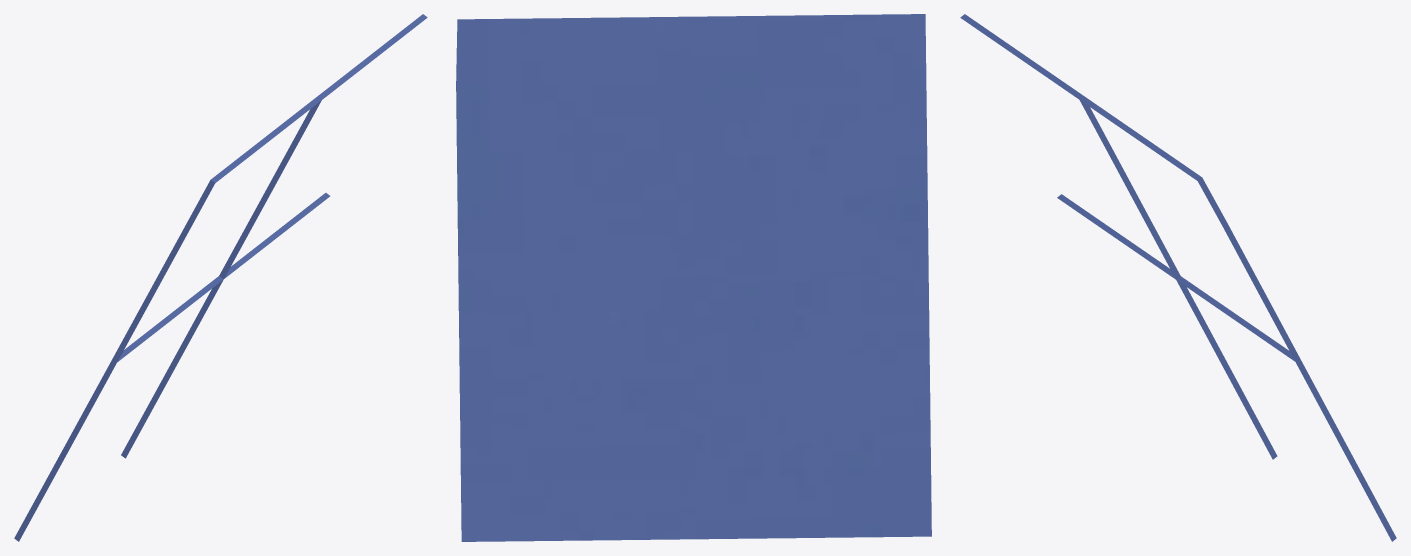
The picture shows the model from 3 angles, left to right: view 1: azimuth 30°, elevation 25°; view 2: azimuth 150°, elevation 25°; view 3: azimuth 270°, elevation 25°; orthographic projection. The views are drawn at different scales.
Size of the model in its own units: 19678 by 17635 by 16904.
Materials: 1 (1 with a texture image).
